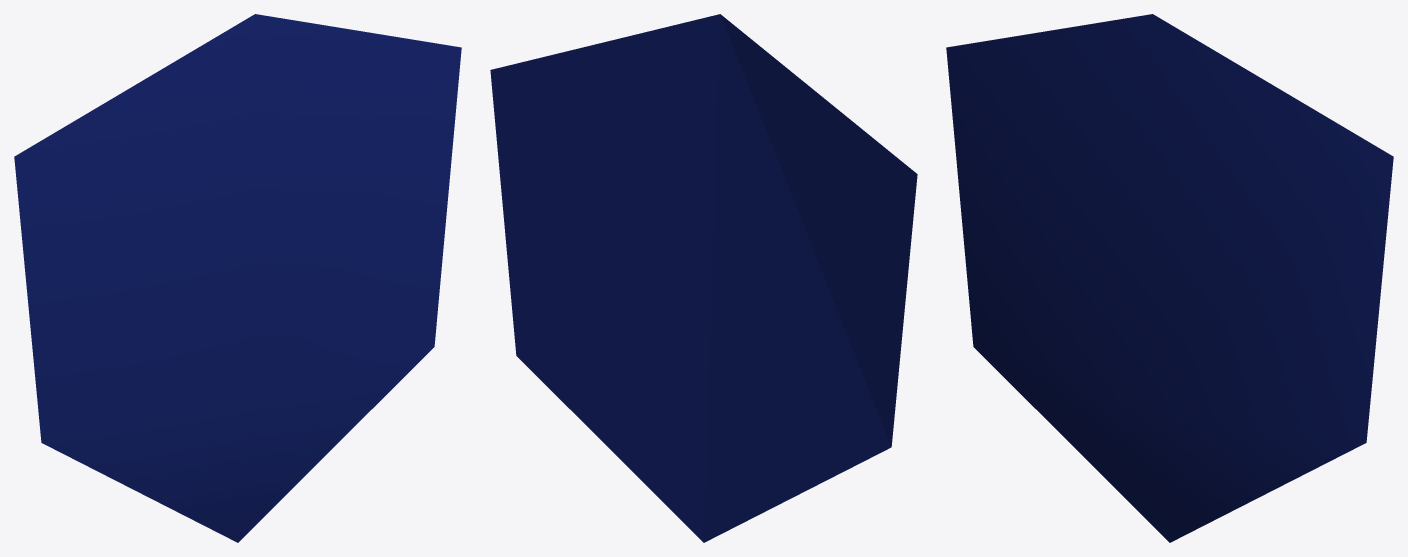
Rendered from notHylianShield.FBX.
3 renders of one model, left to right at view 1: azimuth 30°, elevation 25°; view 2: azimuth 150°, elevation 25°; view 3: azimuth 330°, elevation 25°, orthographic. The views are drawn at different scales.
Visible parts, largest first — view 1: Plane002; view 2: Plane002; view 3: Plane002.
Part boxes in pixels (<box>): Plane002: <box>14,14,461,542</box>; Plane002: <box>490,14,917,542</box>; Plane002: <box>946,14,1393,542</box>.
Size of the model in its own units: 55.21 by 63.85 by 5.68.
